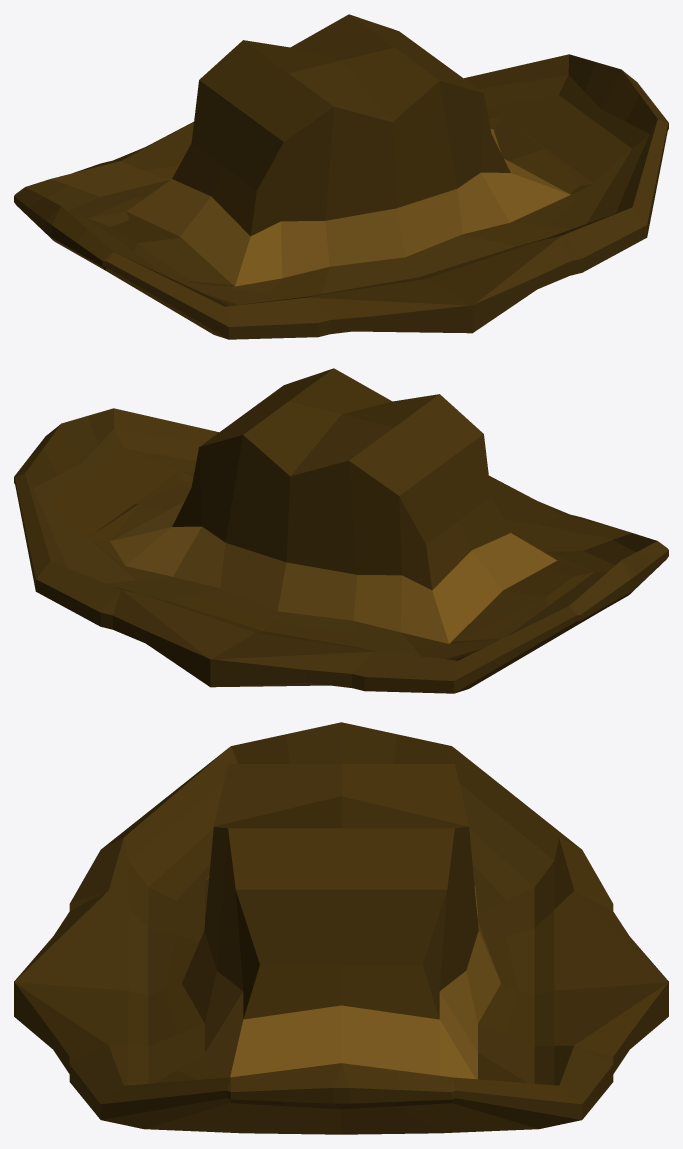
Rendered from cowboy_hat.glb.
3 renders of one model, top to bottom at view 1: azimuth 30°, elevation 25°; view 2: azimuth 150°, elevation 25°; view 3: azimuth 270°, elevation 25°, orthographic. The views are drawn at different scales.
Visible parts, largest first — view 1: hat; view 2: hat; view 3: hat.
Part boxes in pixels (box(x1,y1,x2,y2)): hat: box(14, 14, 668, 339); hat: box(14, 368, 668, 693); hat: box(14, 722, 668, 1134).
Size of the model in its own units: 3.44 by 1.13 by 2.67.
